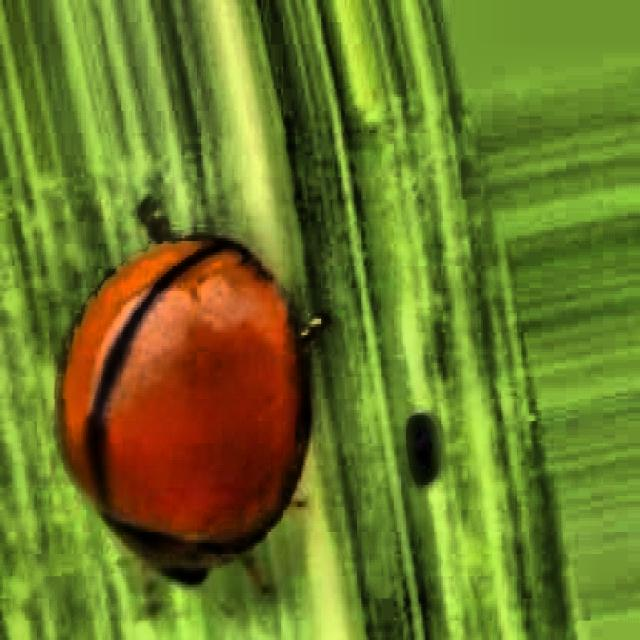Ladybug: (10, 128, 388, 626)
